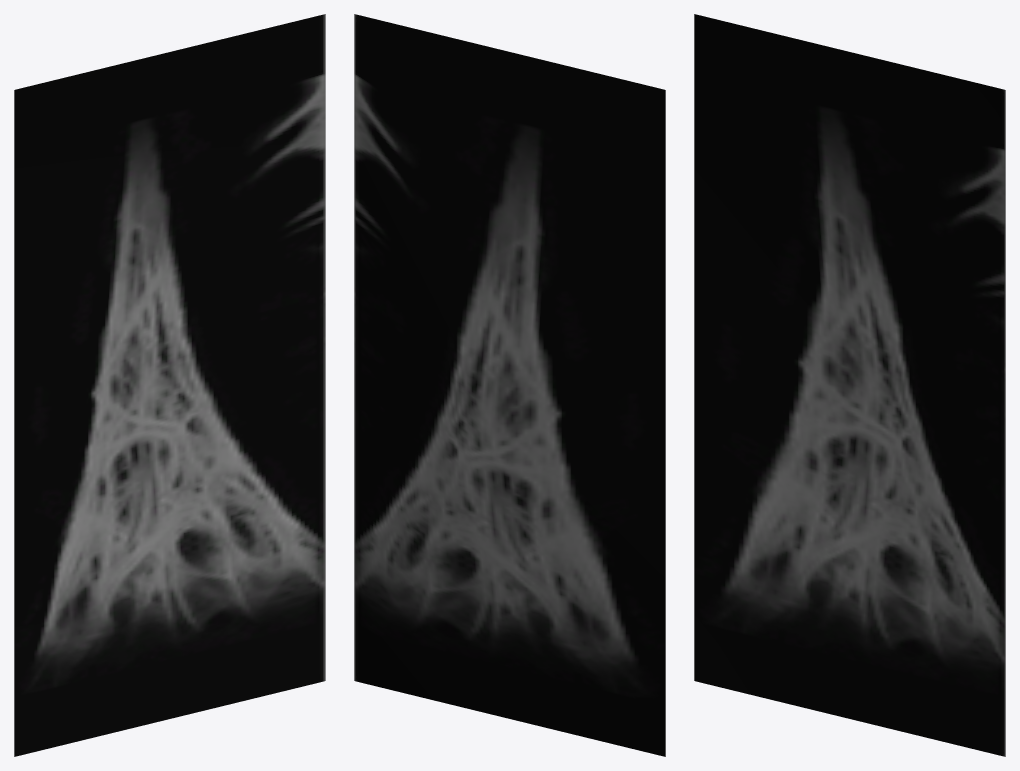
File: DN_cobweb_b.FBX
3 renders of one model, left to right at view 1: azimuth 30°, elevation 25°; view 2: azimuth 150°, elevation 25°; view 3: azimuth 330°, elevation 25°, orthographic.
Visible parts, largest first — view 1: DN_cobweb_b; view 2: DN_cobweb_b; view 3: DN_cobweb_b.
Part boxes in pixels (x1,y1,x2,y2): DN_cobweb_b: (14,14,325,756); DN_cobweb_b: (354,14,665,756); DN_cobweb_b: (694,14,1005,756).
Bounding box in the file's own units: 8583 × 17577 × 1100.
